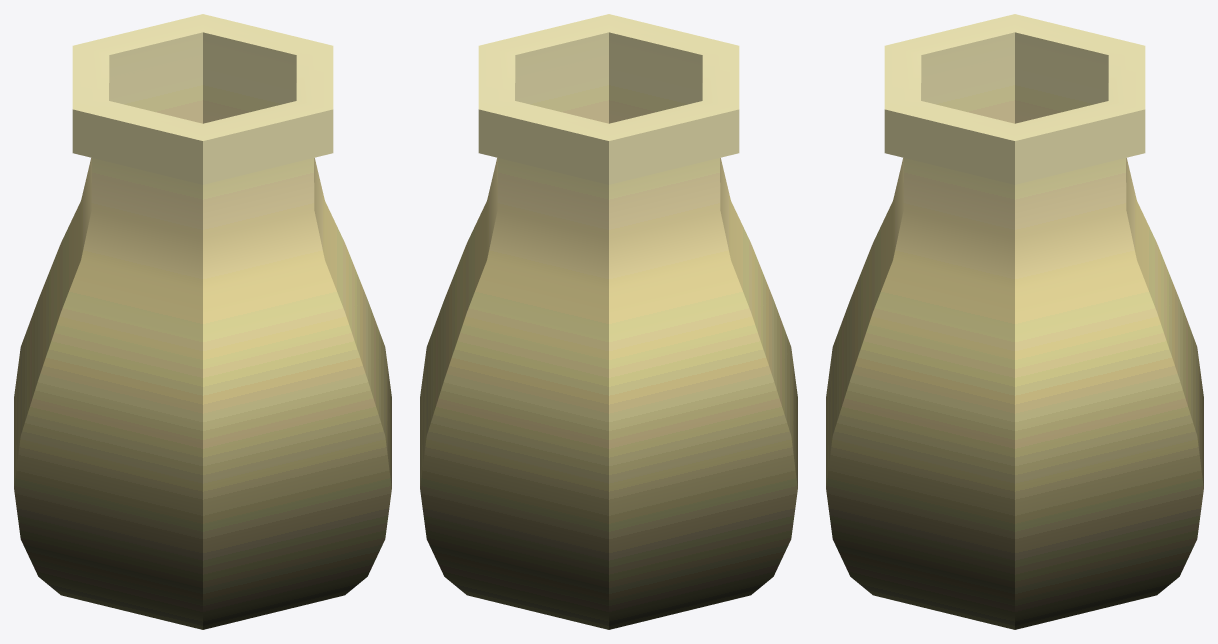
The model's file is SM_Vase.fbx.
3 renders of one model, left to right at view 1: azimuth 30°, elevation 25°; view 2: azimuth 150°, elevation 25°; view 3: azimuth 270°, elevation 25°, orthographic.
Parts seen in each view (by area): view 1: Vase; view 2: Vase; view 3: Vase.
Part boxes in pixels (bbox=[...]): Vase: bbox=[14, 14, 391, 629]; Vase: bbox=[420, 14, 797, 629]; Vase: bbox=[826, 14, 1203, 629].
Bounding box in the file's own units: 24.64 × 30.11 × 21.34.
Materials: 1 (1 with a texture image).
